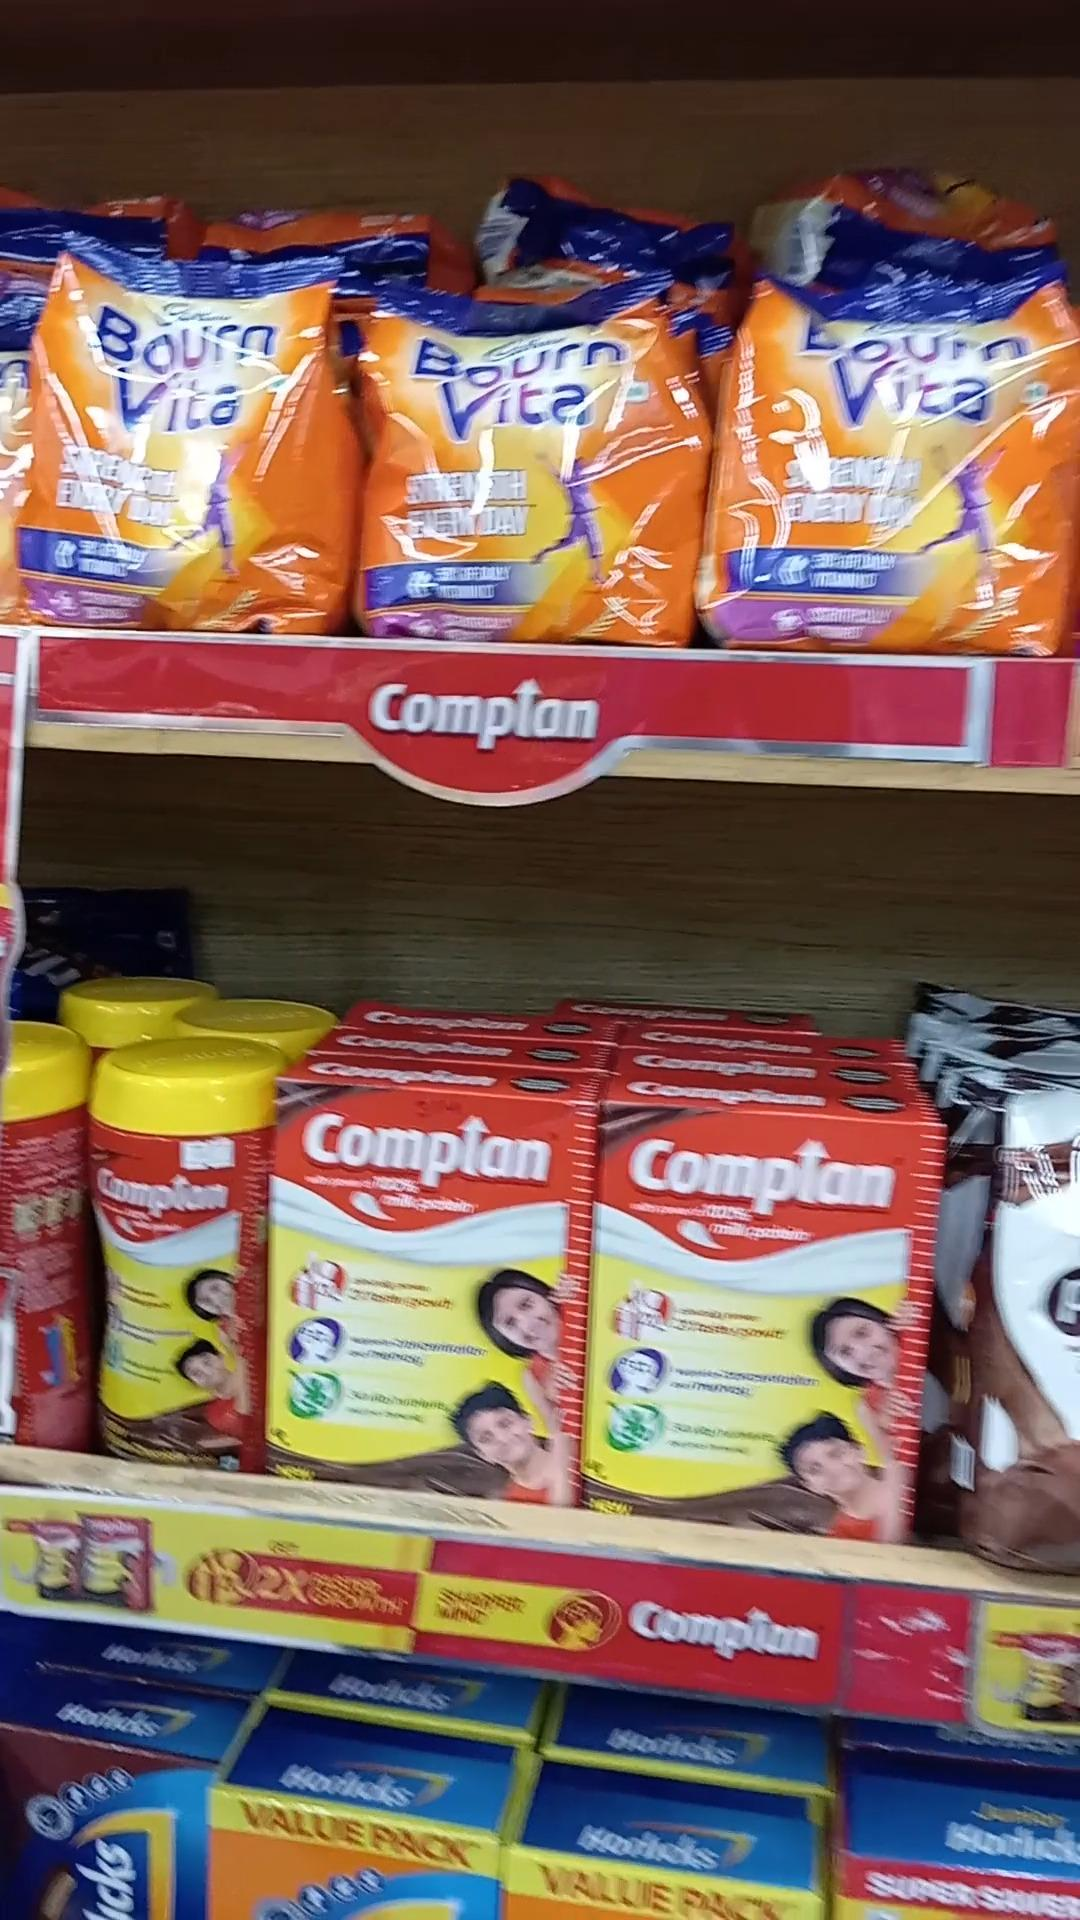BOURN_VITA_500_G_POUCH: (733, 224, 1080, 650), (367, 272, 687, 657), (37, 227, 347, 618)
COMPLAN_CHOCOLATE_500_GMS_JAR: (88, 1043, 258, 1461)
COMPLAN_CHOCOLATE_500_GMS_PACK: (603, 1108, 916, 1534), (277, 1081, 579, 1506)
